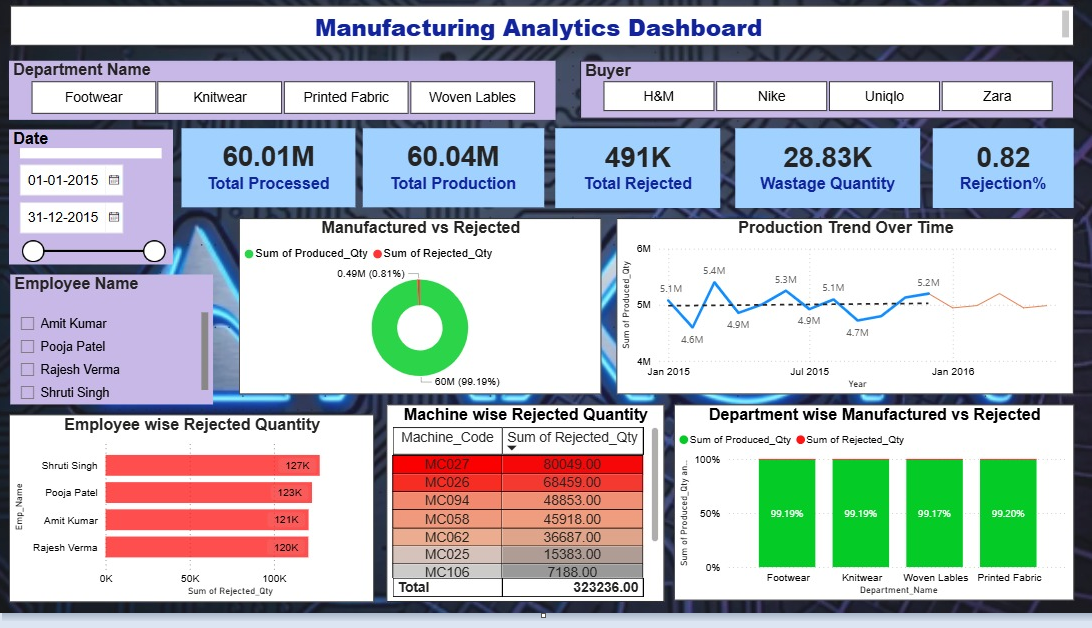

The dashboard page shown, as its layout file describes it:
{"tool":"tableau","page":{"name":"Dashboard 1","canvas":[1000,1000],"units":"permille","ordinal":0},"visuals":[{"type":"text","box":[155.4,10.2,838.4,87.8]},{"type":"dashboard-object","box":[3.6,14.3,143.9,244.9]},{"type":"worksheet","title":"Produced Quantity","mark":"Automatic","box":[154.5,116.3,164.3,265.3]},{"type":"worksheet","title":"Rejected Quantity","mark":"Automatic","box":[323.3,116.3,171.4,263.3]},{"type":"worksheet","title":"Processed Quantity","mark":"Automatic","box":[499.1,116.3,175.8,265.3]},{"type":"worksheet","title":"Wastage Quantity","mark":"Automatic","box":[677.6,116.3,181.2,263.3]},{"type":"worksheet","title":"Machine wise Rejected Quantity","mark":"Square","rows":["Machine_Code"],"box":[860.6,116.3,137.7,861.2]},{"type":"image","param":"Image/Processed icon.png","box":[556.8,173.5,56,83.7]},{"type":"image","param":"Image/produced qty.png","box":[217.6,175.5,39.1,77.5]},{"type":"image","param":"Image/rejection.jfif","box":[386.3,177.6,51.5,75.5]},{"type":"image","param":"Image/wastage.png","box":[744.2,179.6,50.6,71.4]},{"type":"filter","title":"Employee wise Rejected Quantity","param":"[federated.11p4e6t1ywob0l15faut60msm7h8].[none:Department_Name:nk]","box":[2.7,273.5,148.3,263.3]},{"type":"worksheet","title":"Production Trend","mark":"Automatic","rows":["Produced_Qty"],"cols":["Doc_Date"],"box":[155.4,395.9,700.7,259.2]},{"type":"filter","title":"Production Trend","param":"[federated.11p4e6t1ywob0l15faut60msm7h8].[none:Doc_Date:qk]","box":[2.7,536.7,148.3,179.6]},{"type":"worksheet","title":"Departmentwise M vs R","mark":"Automatic","cols":["Department_Name"],"box":[635,673.5,218.5,310.2]},{"type":"worksheet","title":"Manufacturing vs Rejected ","mark":"Automatic","box":[423.6,677.6,204.3,310.2]},{"type":"worksheet","title":"Employee wise Rejected Quantity","mark":"Automatic","rows":["Emp_Name"],"cols":["Rejected_Qty"],"box":[152.8,679.6,265.5,308.2]},{"type":"filter","title":"Production Trend","param":"[federated.11p4e6t1ywob0l15faut60msm7h8].[none:Buyer:nk]","box":[2.7,716.3,148.3,265.3]}]}

Visuals, with their boxes on the dashboard's canvas, which has no fixed pixel size, in thousandths of its width and height (x1, y1, x2, y2). These are canvas units, not pixel positions in the 1092x628 screenshot, which may show the page scaled, cropped or inside an application window:
text: rect(155, 10, 994, 98)
dashboard-object: rect(4, 14, 148, 259)
"Produced Quantity" worksheet: rect(154, 116, 319, 382)
"Rejected Quantity" worksheet: rect(323, 116, 495, 380)
"Processed Quantity" worksheet: rect(499, 116, 675, 382)
"Wastage Quantity" worksheet: rect(678, 116, 859, 380)
"Machine wise Rejected Quantity" worksheet (Square marks): rect(861, 116, 998, 978)
image: rect(557, 174, 613, 257)
image: rect(218, 176, 257, 253)
image: rect(386, 178, 438, 253)
image: rect(744, 180, 795, 251)
"Employee wise Rejected Quantity" filter: rect(3, 274, 151, 537)
"Production Trend" worksheet: rect(155, 396, 856, 655)
"Production Trend" filter: rect(3, 537, 151, 716)
"Departmentwise M vs R" worksheet: rect(635, 674, 854, 984)
"Manufacturing vs Rejected " worksheet: rect(424, 678, 628, 988)
"Employee wise Rejected Quantity" worksheet: rect(153, 680, 418, 988)
"Production Trend" filter: rect(3, 716, 151, 982)
